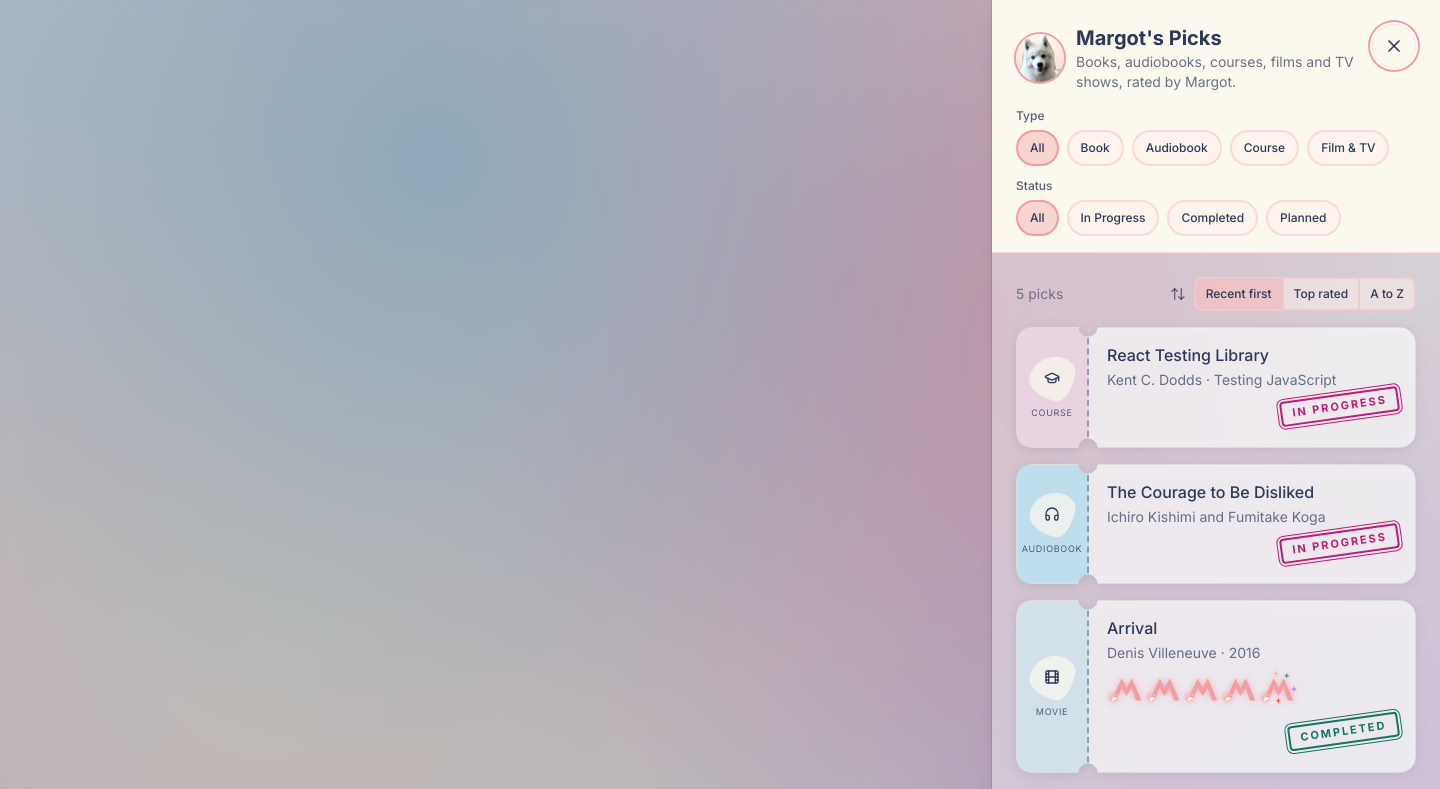
Test: MargotsPicks › filters by type and updates the count
Click the button "Book": (1095, 148) [1067,130,1124,166]
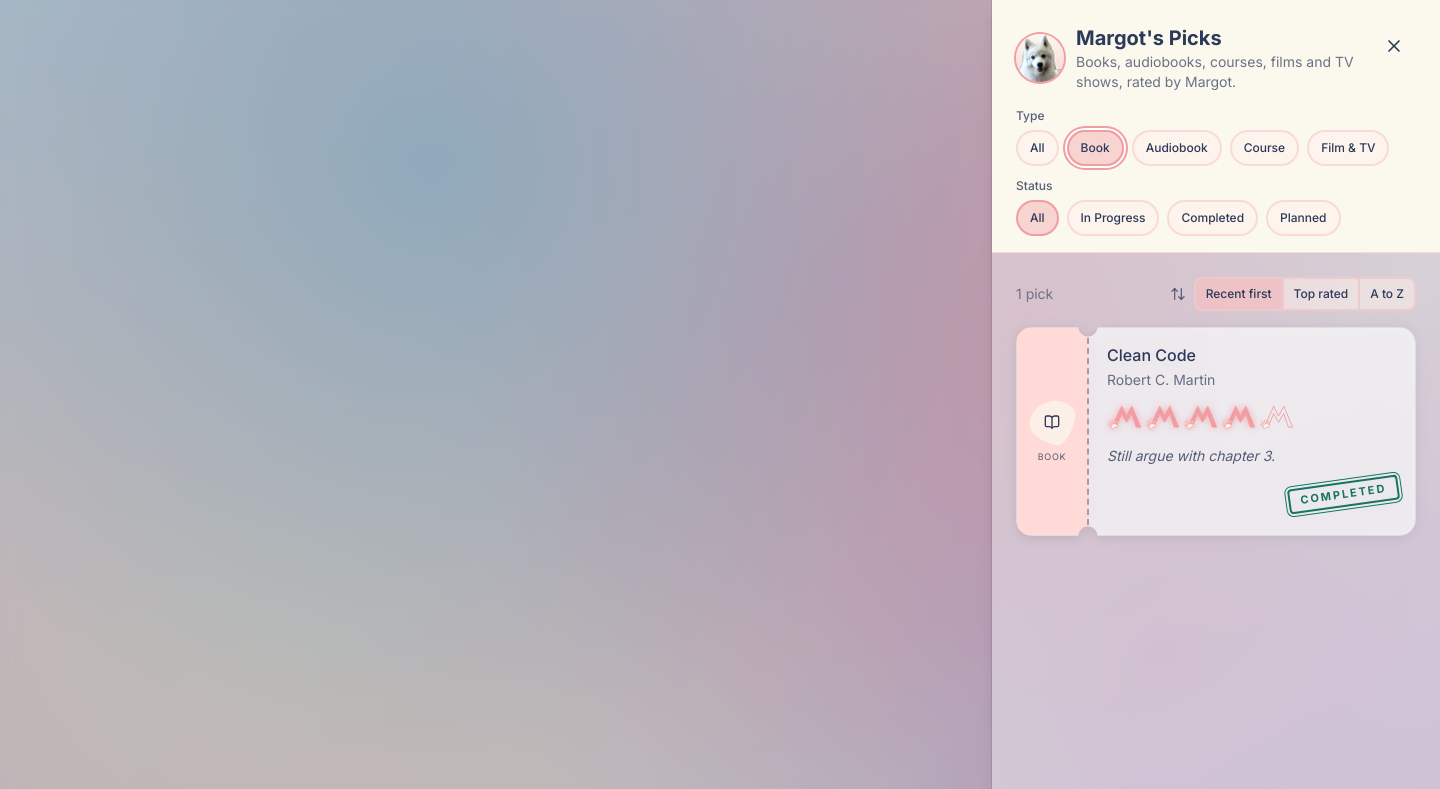
Check: the text "1 pick" is shown, box [1016,284,1053,304]
